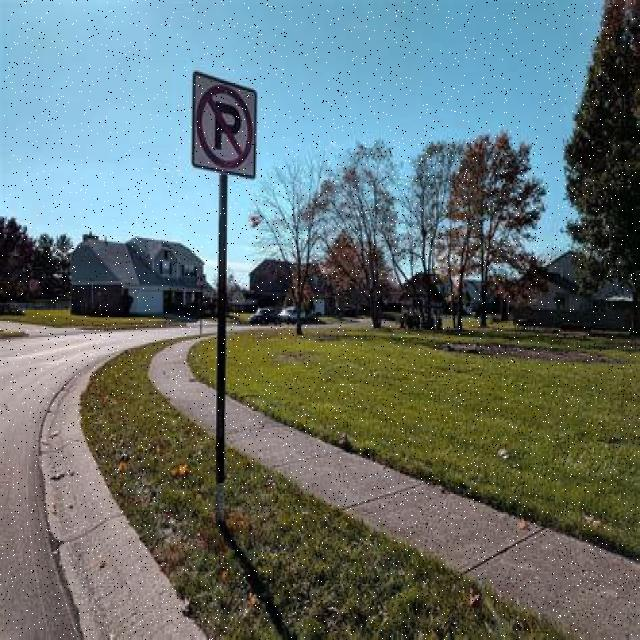No_parking: (194, 76, 257, 178)
